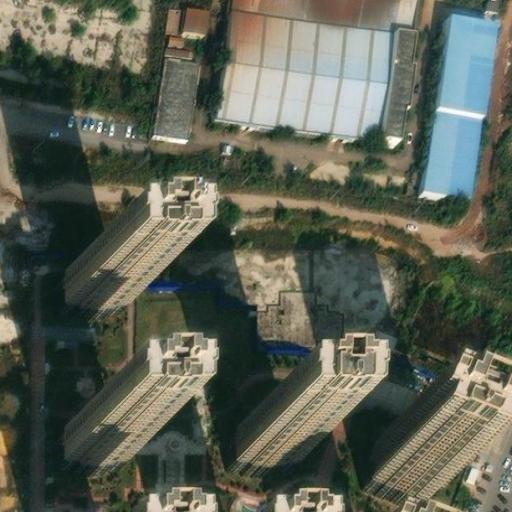building: (220, 2, 420, 140), (425, 3, 495, 186), (154, 0, 207, 132), (371, 427, 455, 493), (235, 0, 421, 26), (63, 411, 137, 453), (57, 255, 132, 296), (237, 412, 307, 454)
